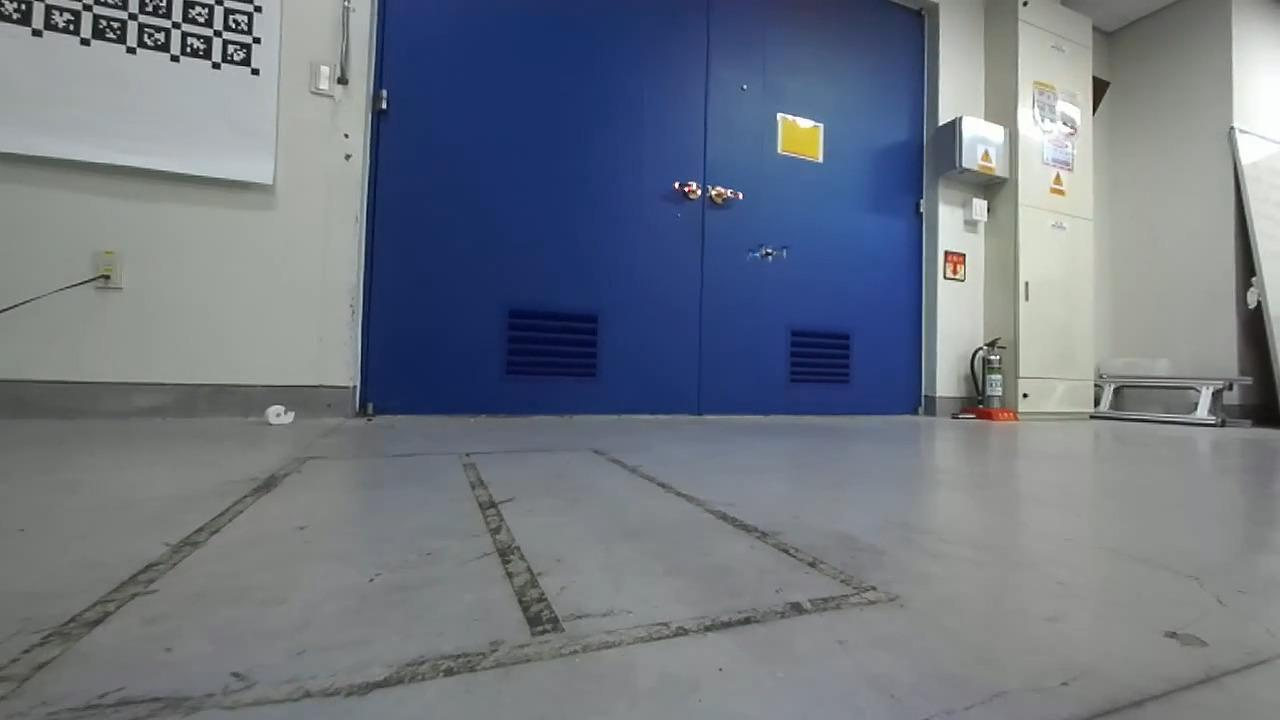crazyflie: (740, 239, 794, 264)
